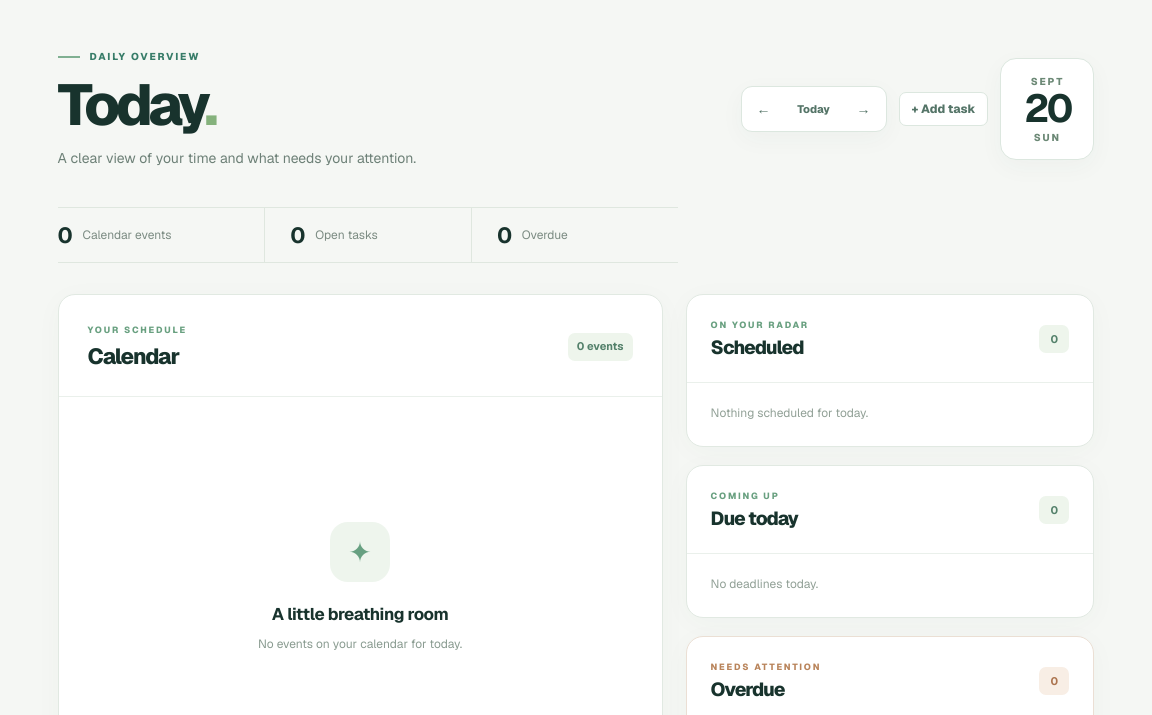
Test: Task capture › creates a task with the entered name and selected-day scheduled date
Click the button "+ Add task" at (944,109), box [899,92,988,126]
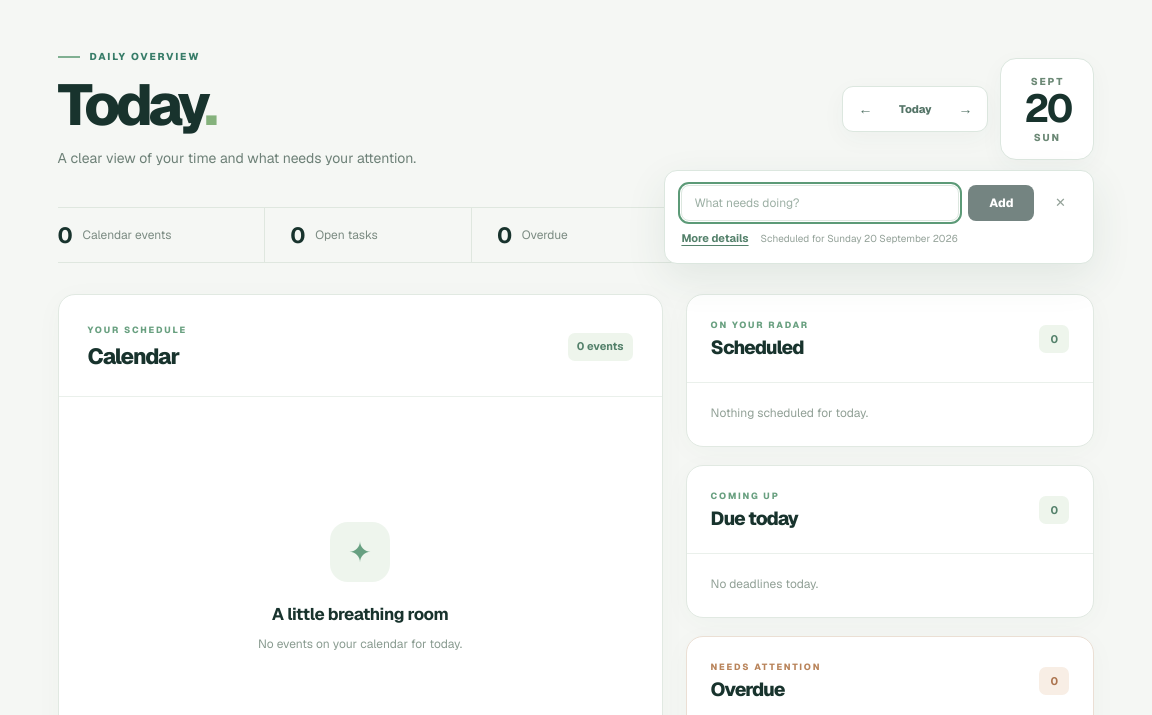
Type "Buy oat milk" into the field with placeholder "What needs doing?" at (820,203), box [681,185,959,221]
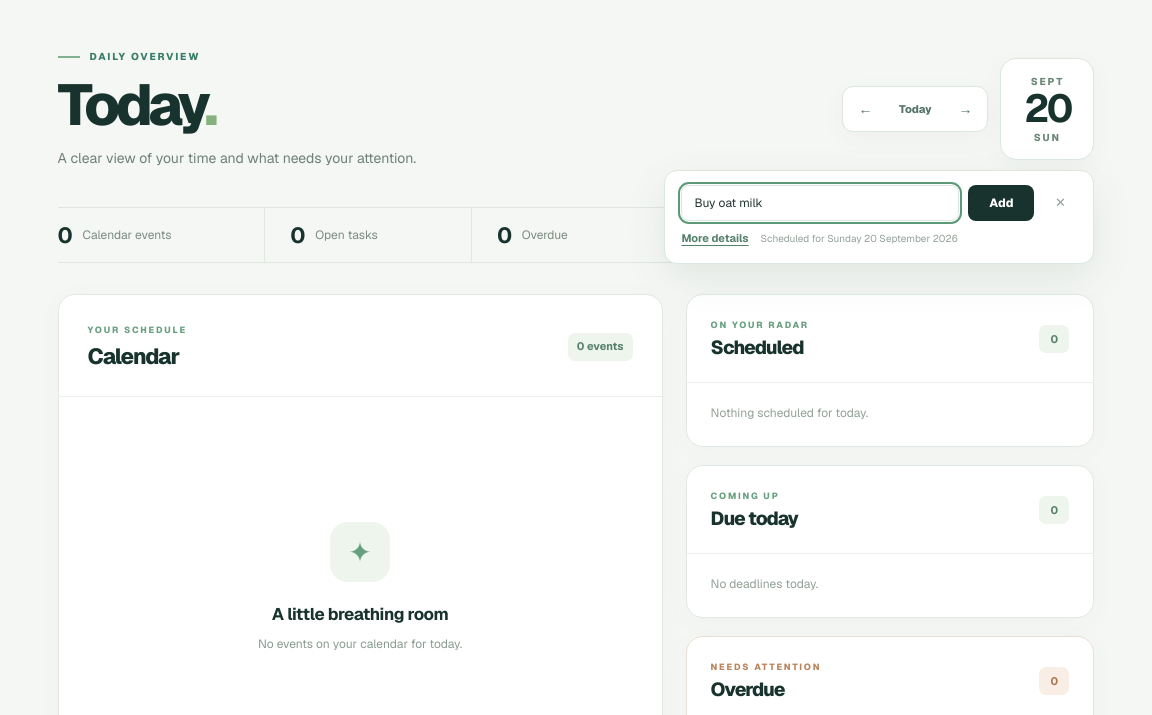
Click the button "Add" at (1001,203), box [968,185,1034,221]
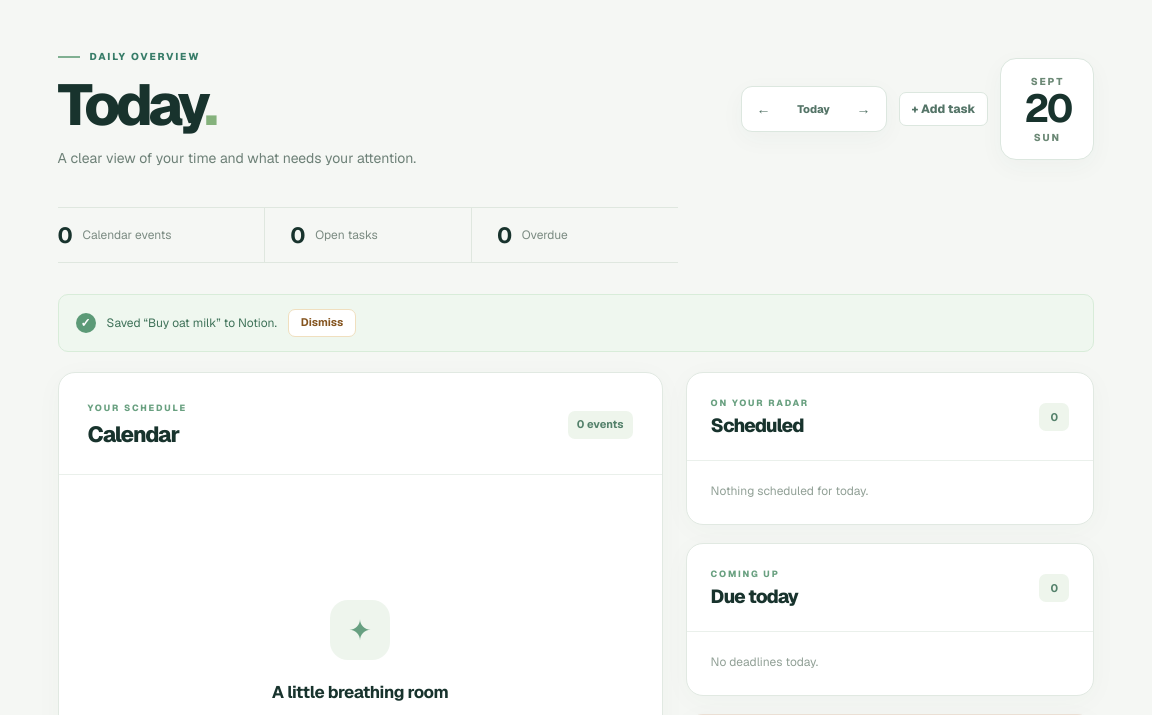
Check: the field with placeholder "What needs doing?" is not shown
Check: the text "Saved “Buy oat milk” to Notion." is shown, box [107,314,277,332]
